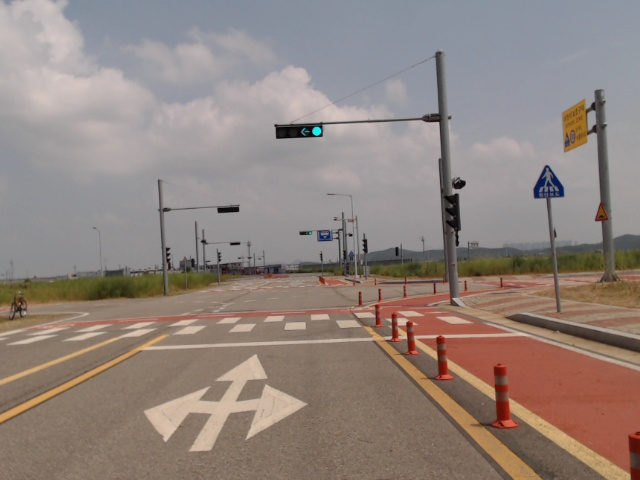all_green_4: (276, 122, 324, 137), (299, 231, 313, 235)
